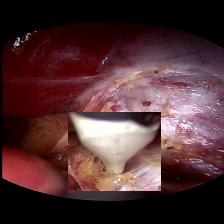Hook: (67, 112, 160, 191)
